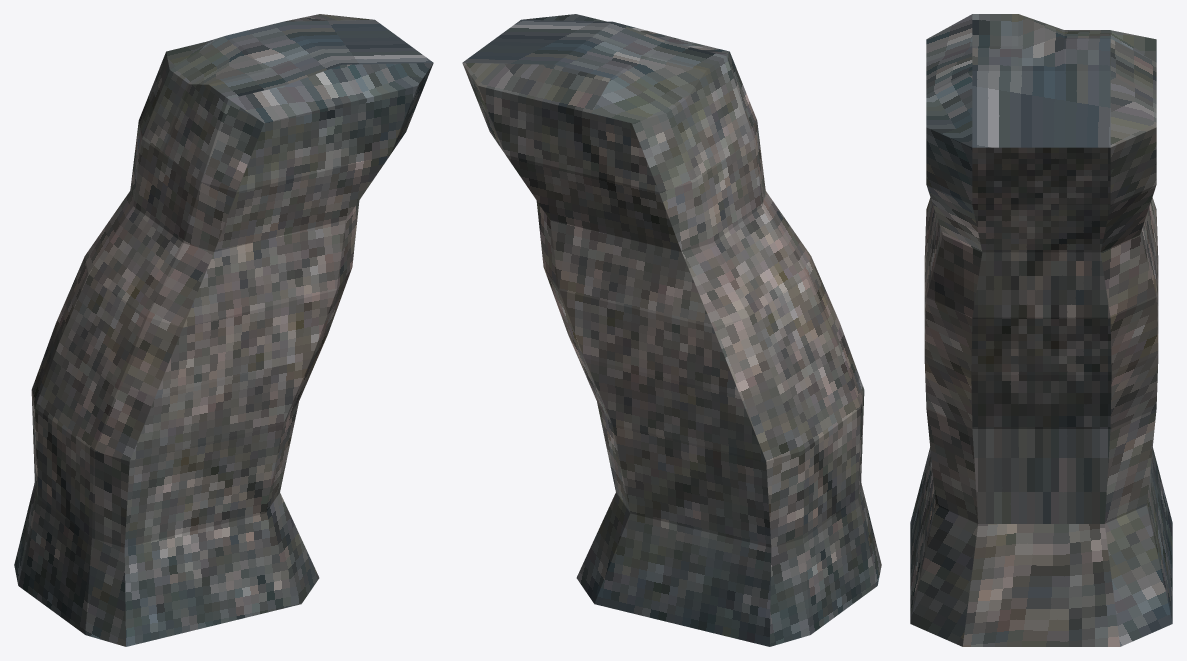
The model's file is bigrock.glb.
3 views of the same model, side by side, from view 1: azimuth 30°, elevation 25°; view 2: azimuth 150°, elevation 25°; view 3: azimuth 270°, elevation 25° (orthographic). The views are drawn at different scales.
Parts seen in each view (by area): view 1: Cube.006; view 2: Cube.006; view 3: Cube.006.
Boxes of the visible parts, x1=… form: Cube.006: x1=14, y1=14, x2=433, y2=646; Cube.006: x1=462, y1=14, x2=881, y2=646; Cube.006: x1=910, y1=14, x2=1172, y2=646.
Bounding box in the file's own units: 4.15 × 5.67 × 2.28.
1 material, 1 textured.
